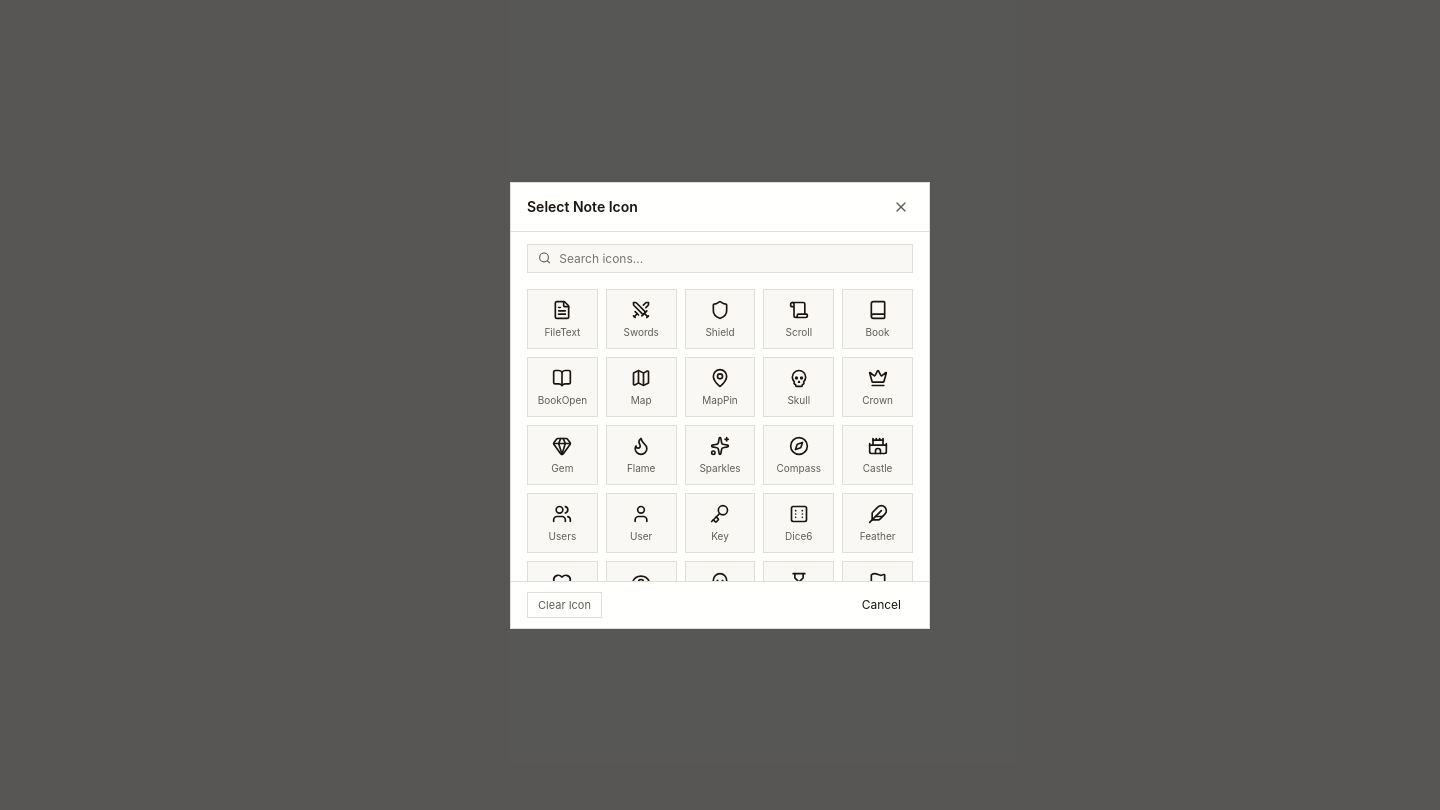
Test: IconPickerModal › filters icons using the search input
Type "Skull" into the field with placeholder "Search icons..." at (731, 258), box [559, 250, 902, 266]
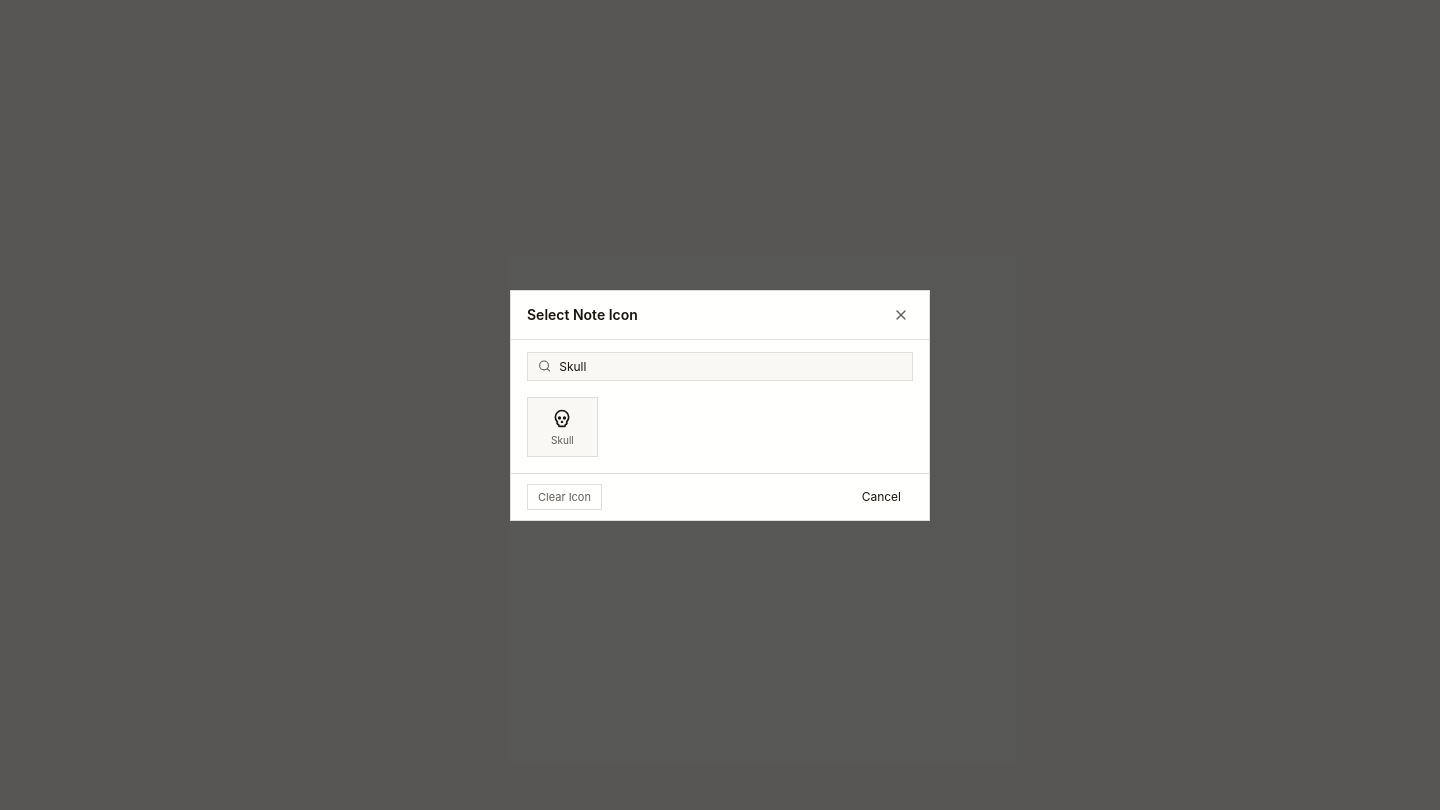
Check: the button labelled "Skull" is shown, box [527, 396, 598, 456]
Check: the button labelled "Compass" is gone
